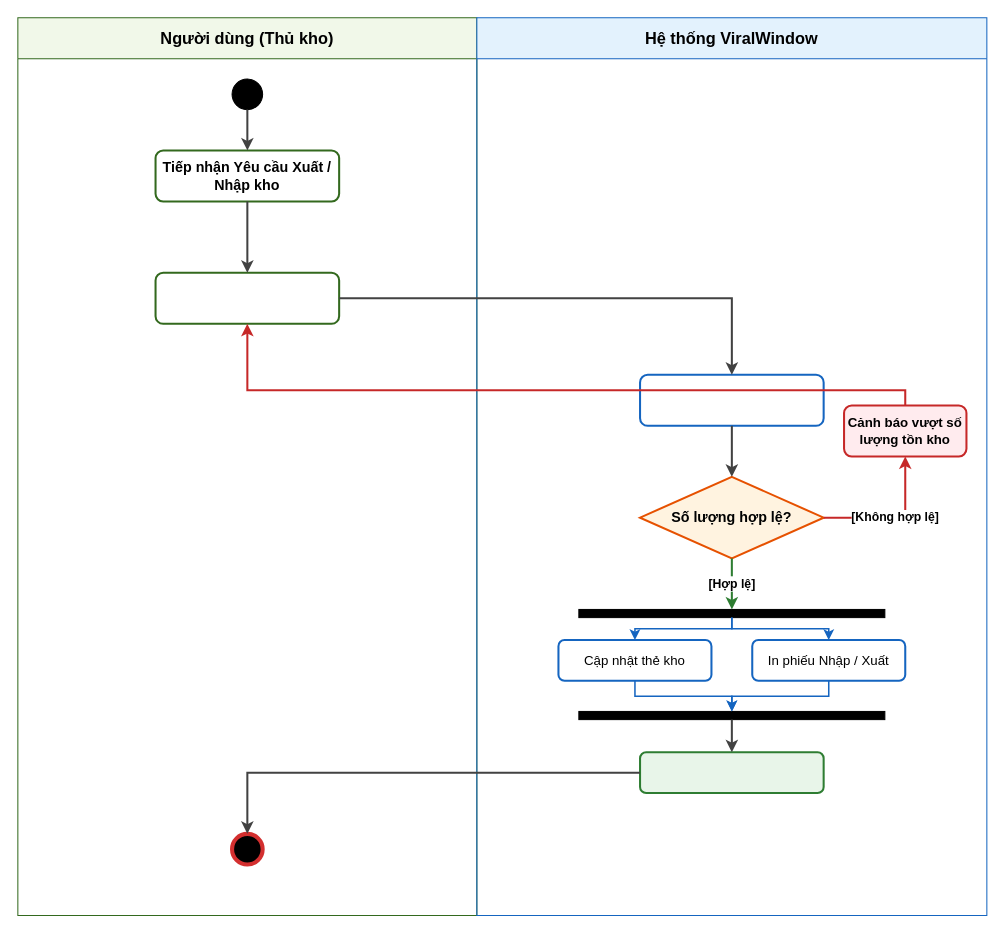
Image size: 1005x933. Some labels were removed from this diagram. The shapes that lost their labels are listed below. From the top down, each one's centre as x and y in pixels, then its label:
At (x=247, y=297): "Quét mã vạch / Chọn vật tư".
At (x=731, y=399): "Truy xuất thông tin & số lượng tồn kho".
At (x=731, y=772): "Xác nhận giao dịch thành công".
